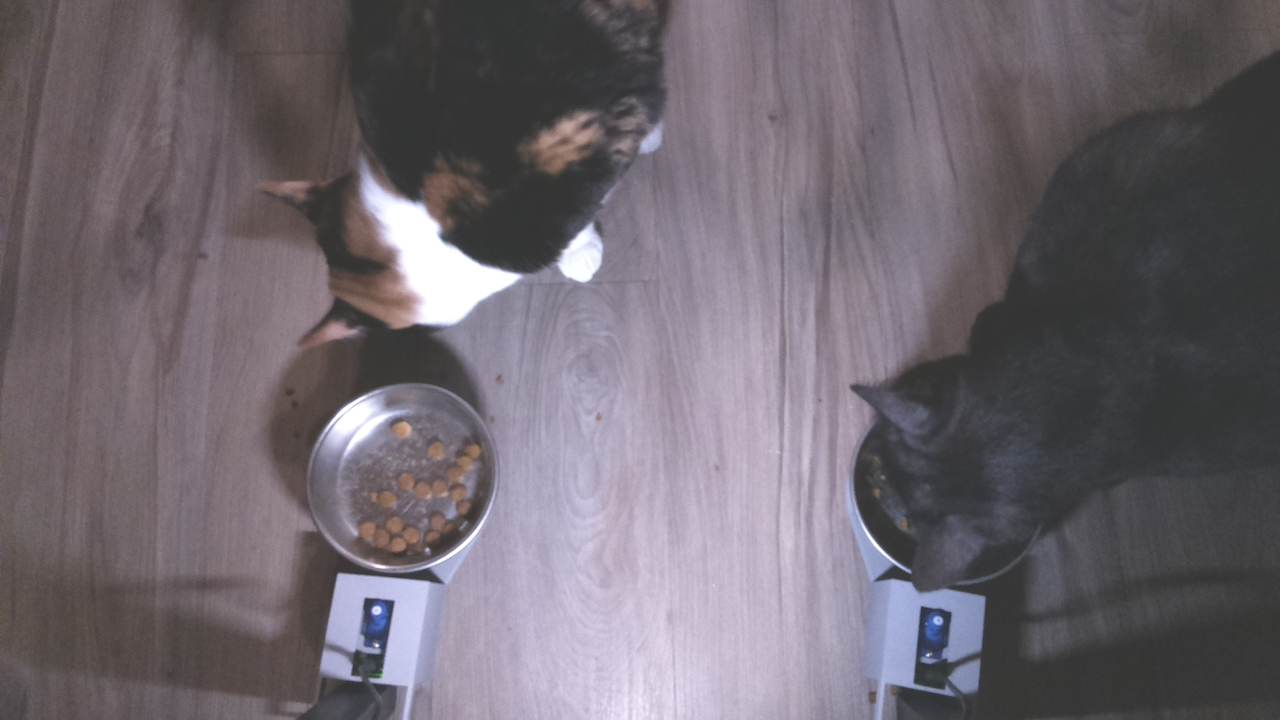bella: (235, 165, 514, 351)
open_bowl: (305, 376, 504, 586)
saki_eating: (835, 329, 1100, 605)
